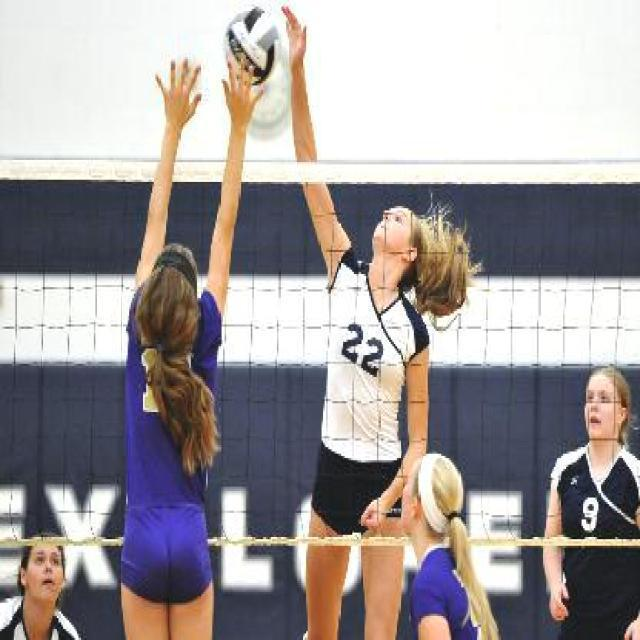volleyball: (223, 6, 280, 85)
